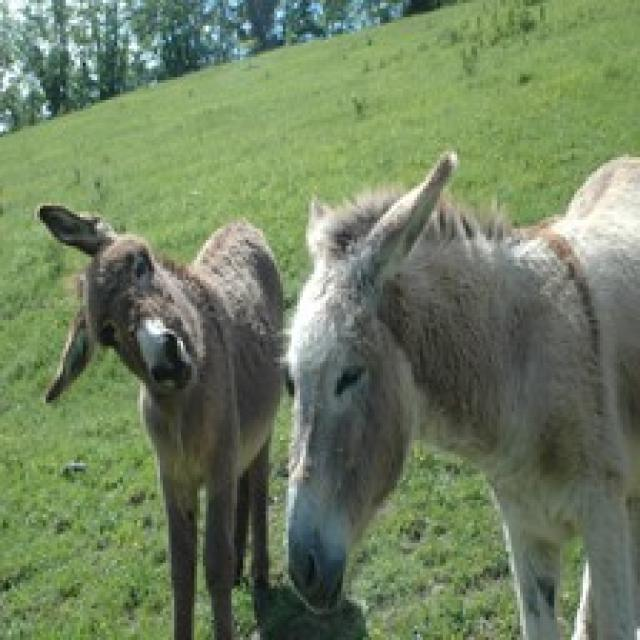Donkey: (280, 145, 637, 638), (34, 200, 286, 637)
